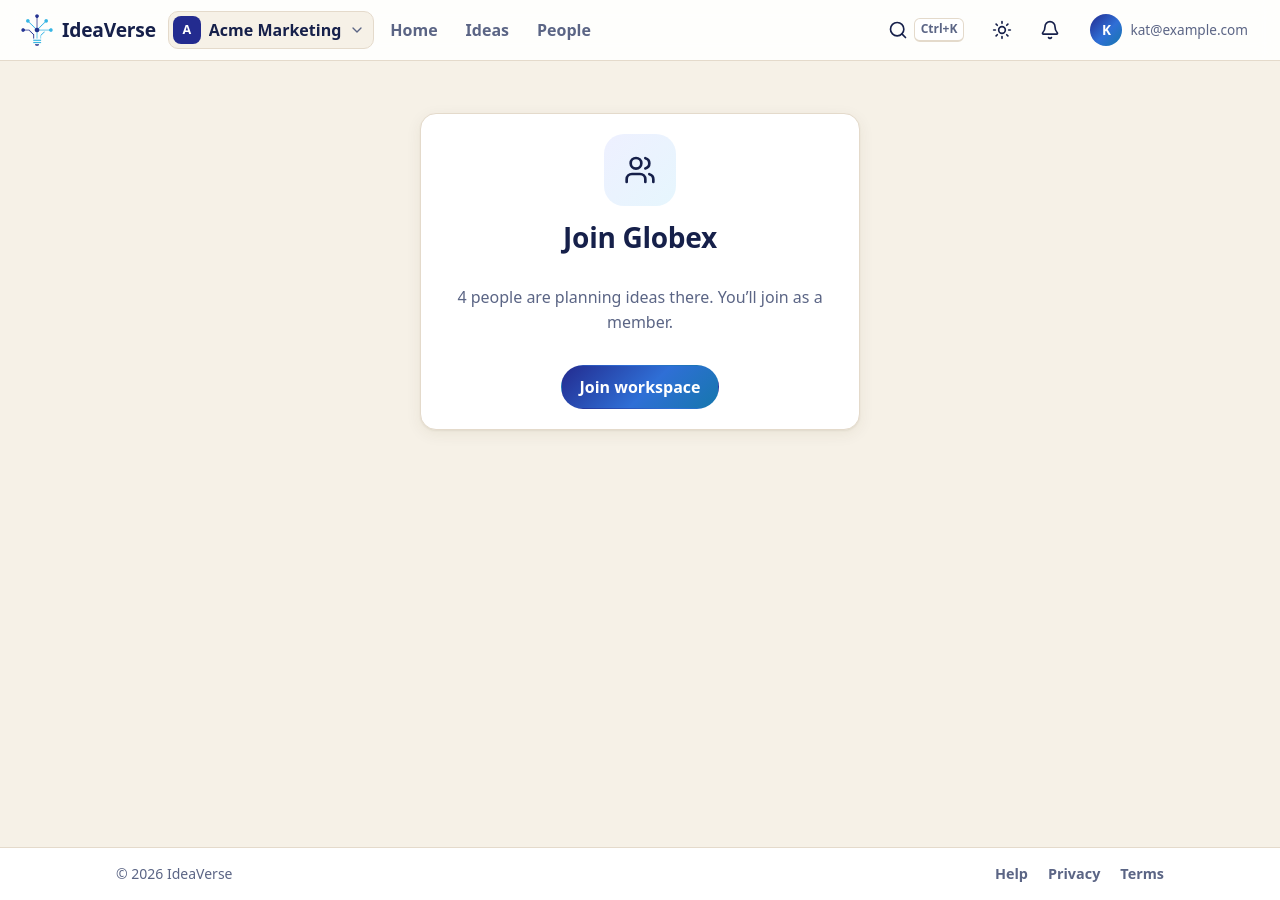
Test: Joining through an invite link › joins the workspace and opens it
Check: the text "4 people are planning ideas there. You’ll join as a member." is shown, box [441,285,839,335]
What coordinates should you click on to do the following:
click the button "Join workspace"
I would click on:
 (640, 387)
Its box is [560,365,720,409].
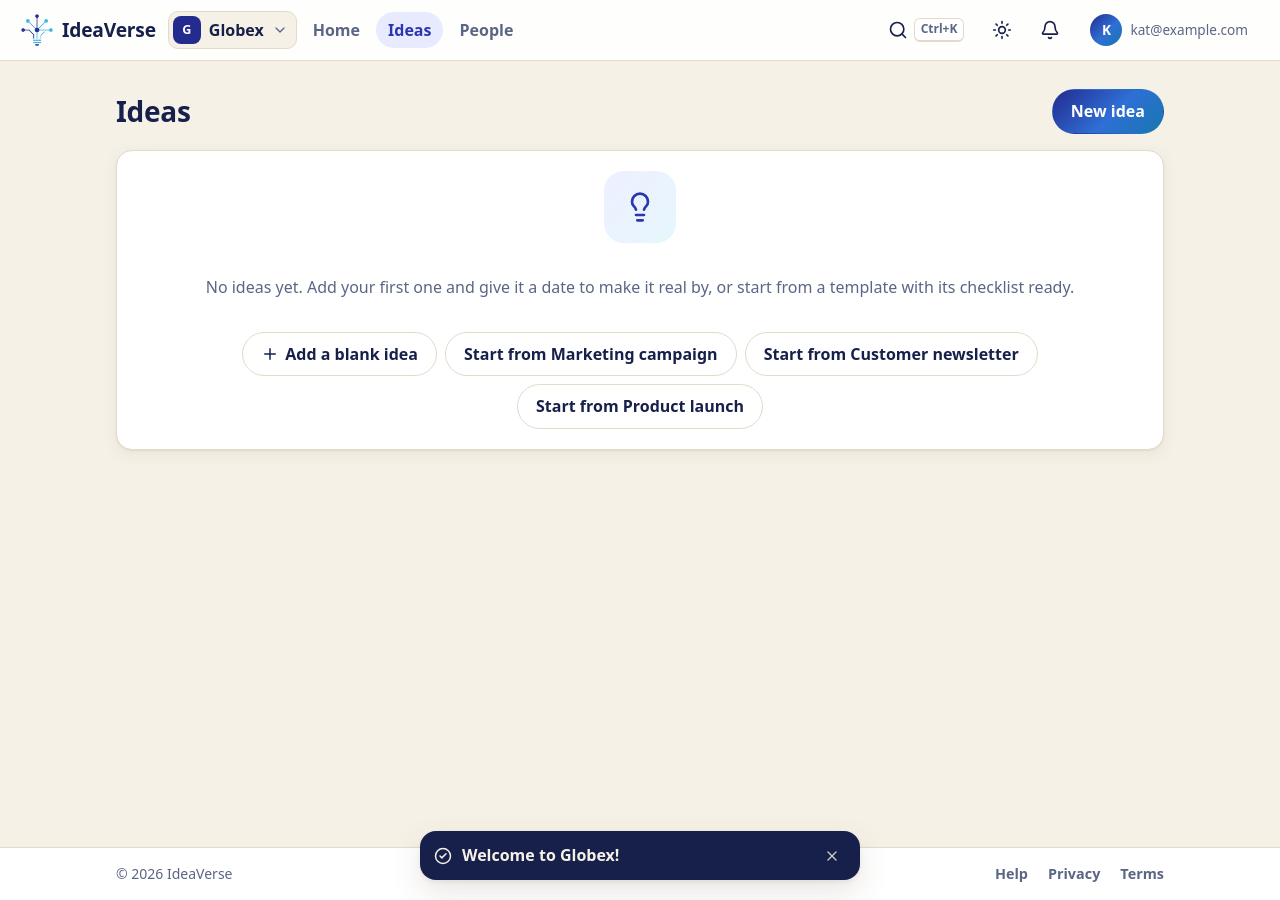
Check: the text "Welcome to Globex!" is shown, box [462,844,619,866]
Check: the button with aria-label "Workspace: Globex" is shown, box [168,11,297,49]
